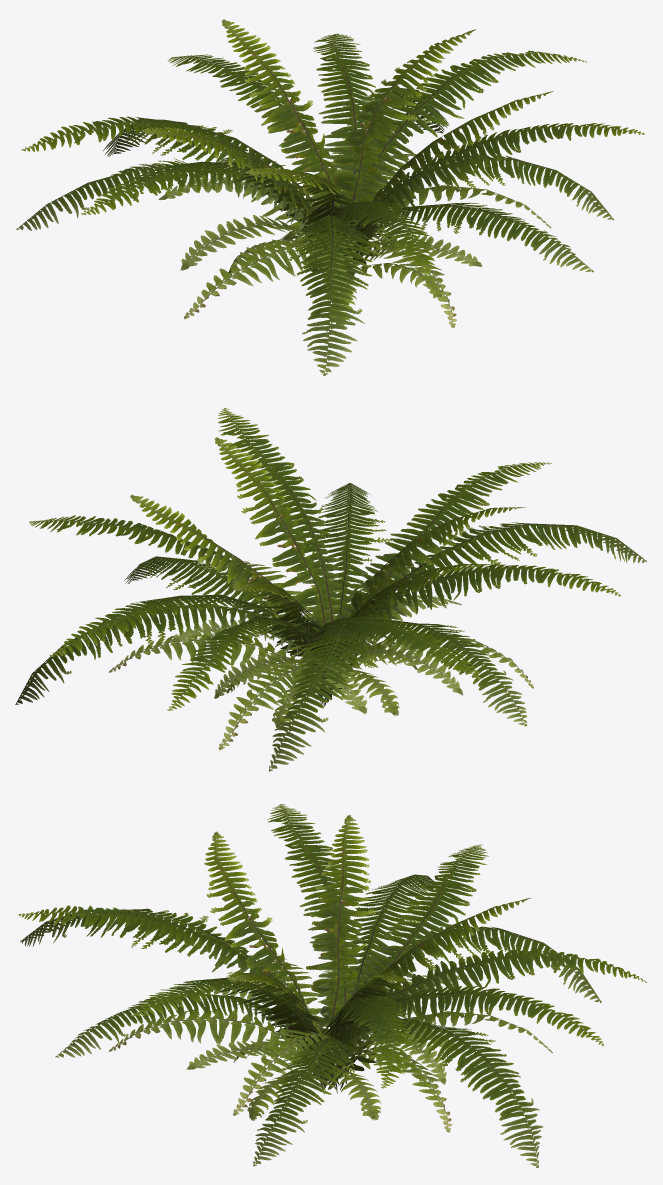
Rendered from desert fake plant.fbx.
The picture shows the model from 3 angles, top to bottom: view 1: azimuth 30°, elevation 25°; view 2: azimuth 150°, elevation 25°; view 3: azimuth 270°, elevation 25°; orthographic projection. The views are drawn at different scales.
Parts seen in each view (by area): view 1: desert_fake; view 2: desert_fake; view 3: desert_fake.
Part boxes in pixels (x1=…): desert_fake: x1=16, y1=19, x2=644, y2=375; desert_fake: x1=15, y1=408, x2=646, y2=771; desert_fake: x1=18, y1=804, x2=646, y2=1167.
Size of the model in its own units: 368 by 125 by 371.
1 material, 1 textured.
